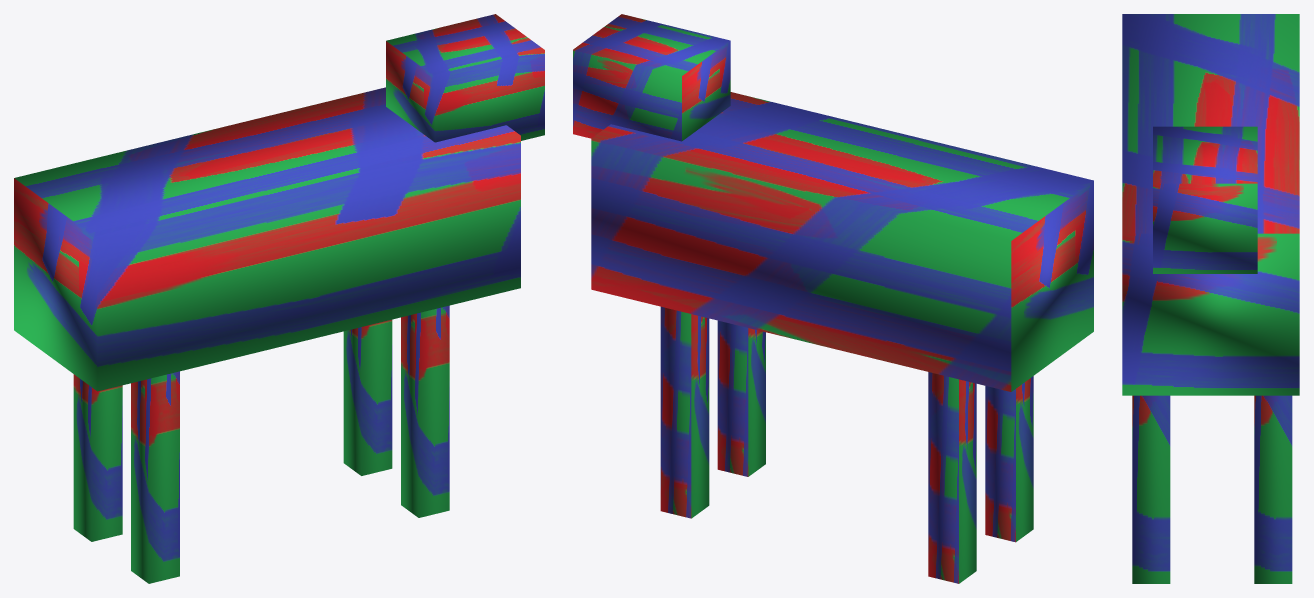
Rendered from Deer.obj.
The picture shows the model from 3 angles, left to right: view 1: azimuth 30°, elevation 25°; view 2: azimuth 150°, elevation 25°; view 3: azimuth 270°, elevation 25°; orthographic projection. The views are drawn at different scales.
Visible parts, largest first — view 1: DEEEEER:polySurface1; view 2: DEEEEER:polySurface1; view 3: DEEEEER:polySurface1.
Part boxes in pixels (<box>): DEEEEER:polySurface1: <box>14,14,544,583</box>; DEEEEER:polySurface1: <box>573,14,1093,583</box>; DEEEEER:polySurface1: <box>1122,14,1299,583</box>.
Size of the model in its own units: 29.32 by 25.96 by 9.17.
Materials: 1 (1 with a texture image).
